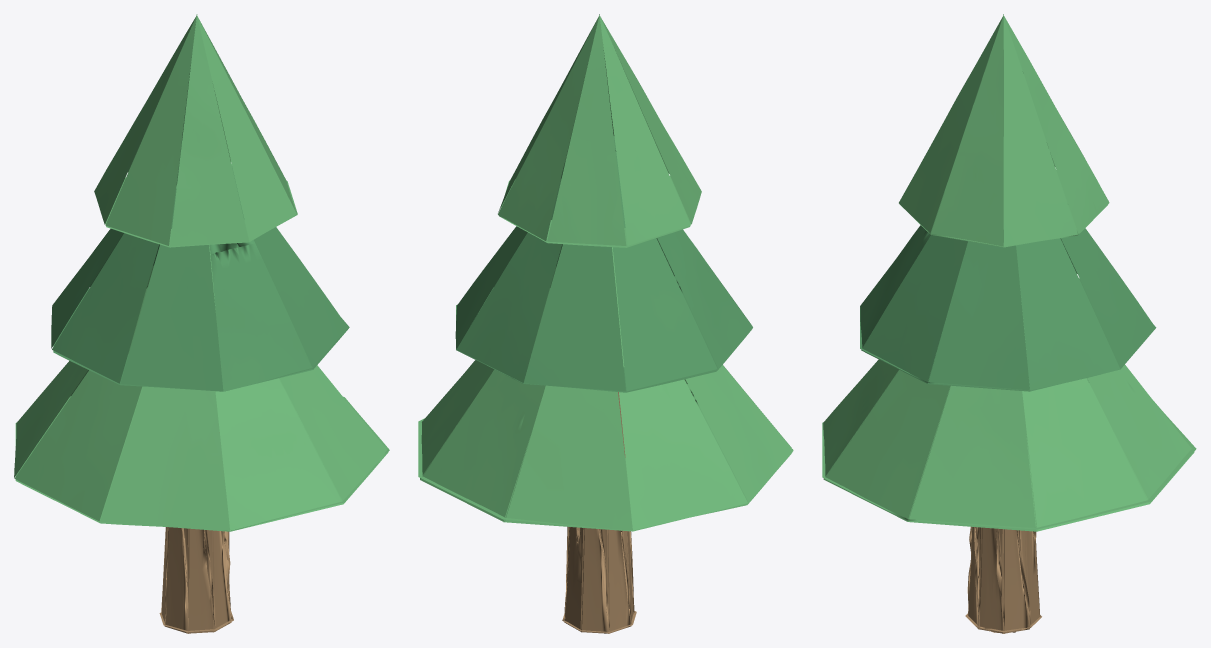
File: pine_tree.glb
The picture shows the model from 3 angles, left to right: view 1: azimuth 30°, elevation 25°; view 2: azimuth 150°, elevation 25°; view 3: azimuth 270°, elevation 25°; orthographic projection.
Parts seen in each view (by area): view 1: TreeTrunk; view 2: TreeTrunk; view 3: TreeTrunk.
Boxes of the visible parts, x1,y1,x2,y2 form: TreeTrunk: (14,14,389,633); TreeTrunk: (418,14,793,633); TreeTrunk: (822,14,1196,633).
Size of the model in its own units: 2.37 by 4.17 by 2.33.
